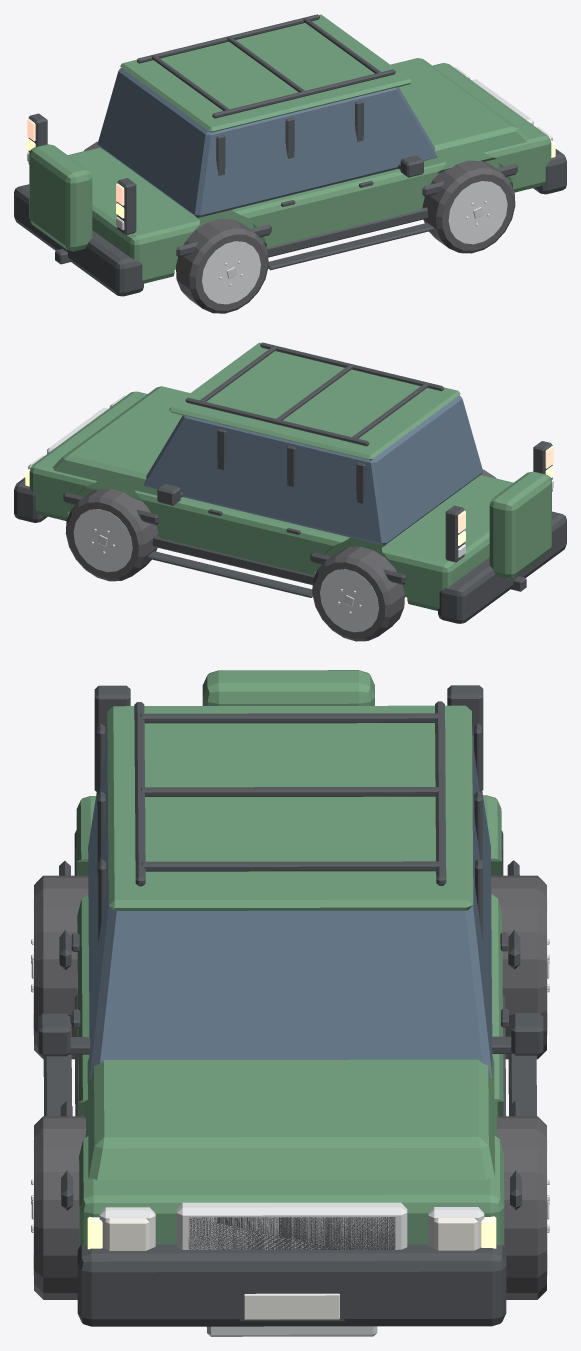
The model's file is SUV.fbx.
3 renders of one model, top to bottom at view 1: azimuth 30°, elevation 25°; view 2: azimuth 150°, elevation 25°; view 3: azimuth 270°, elevation 25°, orthographic. The views are drawn at different scales.
Visible parts, largest first — view 1: SUV_Body, SUV_Wheel_RR, SUV_Wheel_FR; view 2: SUV_Body, SUV_Wheel_RL, SUV_Wheel_FL; view 3: SUV_Body, SUV_Wheel_FR, SUV_Wheel_FL, SUV_Wheel_RL, SUV_Wheel_RR.
Part boxes in pixels (x1,y1,x2,y2): SUV_Body: [14, 14, 566, 296]; SUV_Wheel_RR: [176, 218, 268, 313]; SUV_Wheel_FR: [422, 160, 515, 253]; SUV_Body: [14, 342, 566, 623]; SUV_Wheel_RL: [312, 546, 404, 641]; SUV_Wheel_FL: [65, 488, 158, 581]; SUV_Body: [38, 670, 543, 1336]; SUV_Wheel_FR: [31, 1116, 86, 1299]; SUV_Wheel_FL: [496, 1116, 549, 1299]; SUV_Wheel_RL: [491, 875, 549, 1059]; SUV_Wheel_RR: [31, 875, 88, 1059].
Size of the model in its own units: 541 by 198 by 259.
